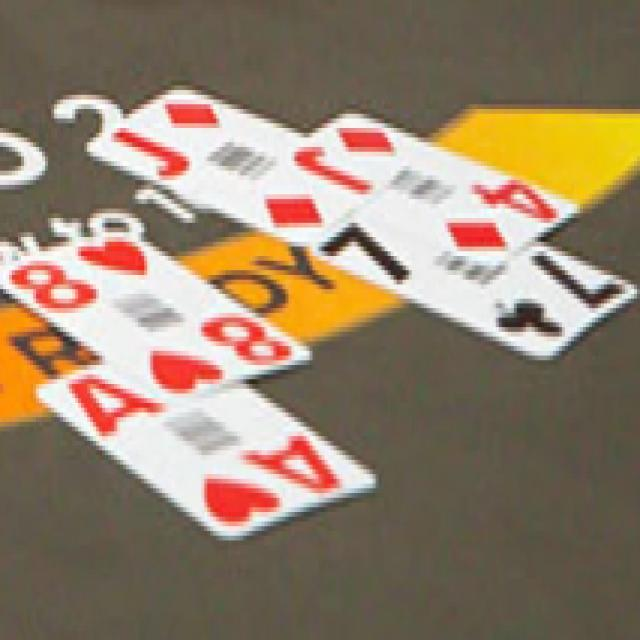Card-4: (308, 109, 578, 271)
Card-7: (313, 204, 638, 360)
Card-8: (0, 230, 312, 411)
Card-A: (37, 361, 377, 541)
Card-J: (85, 84, 403, 248)
